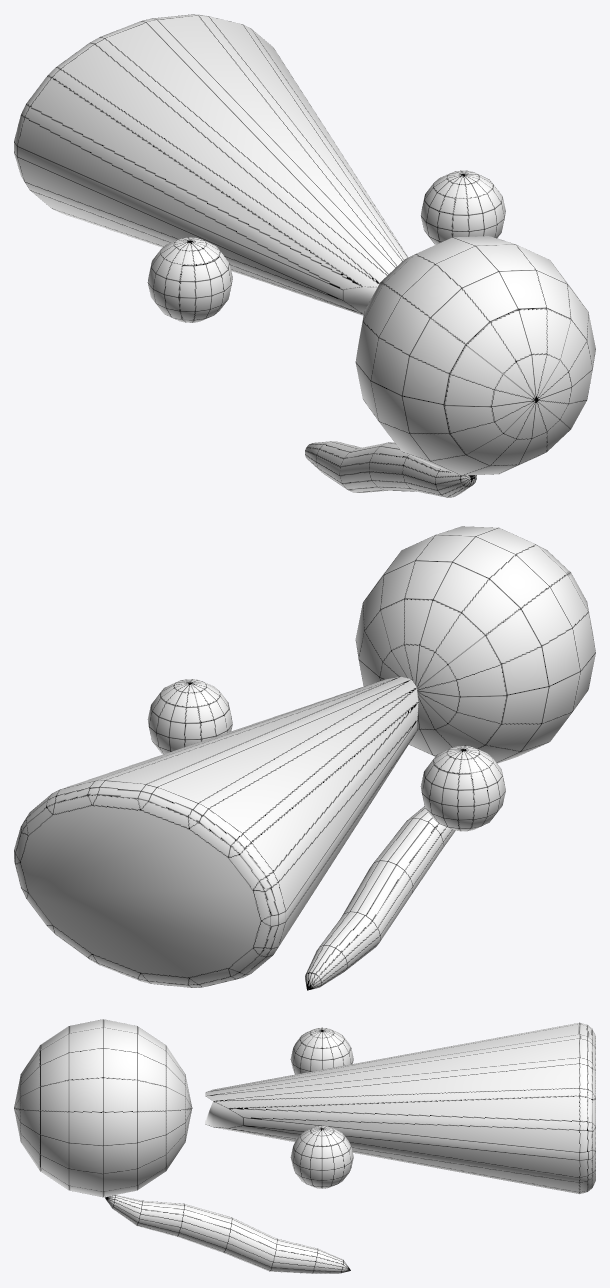
Rendered from TaoBabae.fbx.
The picture shows the model from 3 angles, top to bottom: view 1: azimuth 30°, elevation 25°; view 2: azimuth 150°, elevation 25°; view 3: azimuth 270°, elevation 25°; orthographic projection. The views are drawn at different scales.
Parts seen in each view (by area): view 1: sphere3; view 2: sphere3; view 3: sphere3.
Boxes of the visible parts, x1,y1,x2,y2 form: sphere3: (14, 14, 595, 497); sphere3: (14, 526, 595, 990); sphere3: (14, 1019, 595, 1273).
Size of the model in its own units: 33.08 by 30.36 by 65.27.
Materials: 1 (1 with a texture image).
